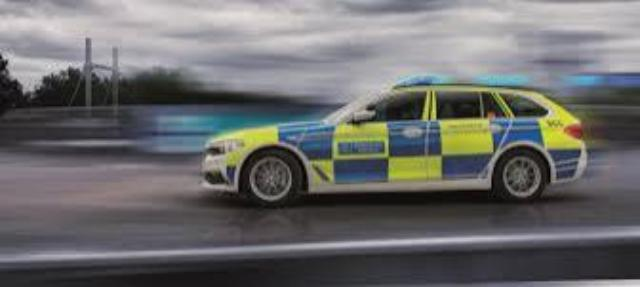police: (194, 72, 592, 206)
